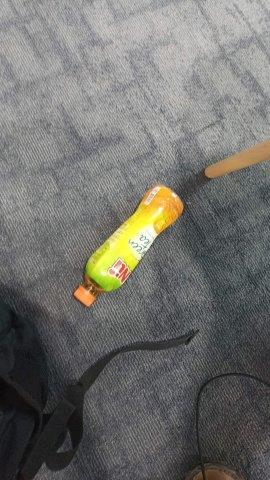botolplastik: (74, 186, 184, 307)
